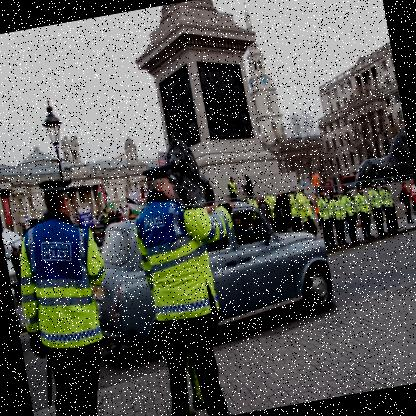Car: (80, 188, 339, 366), (10, 283, 22, 331)
